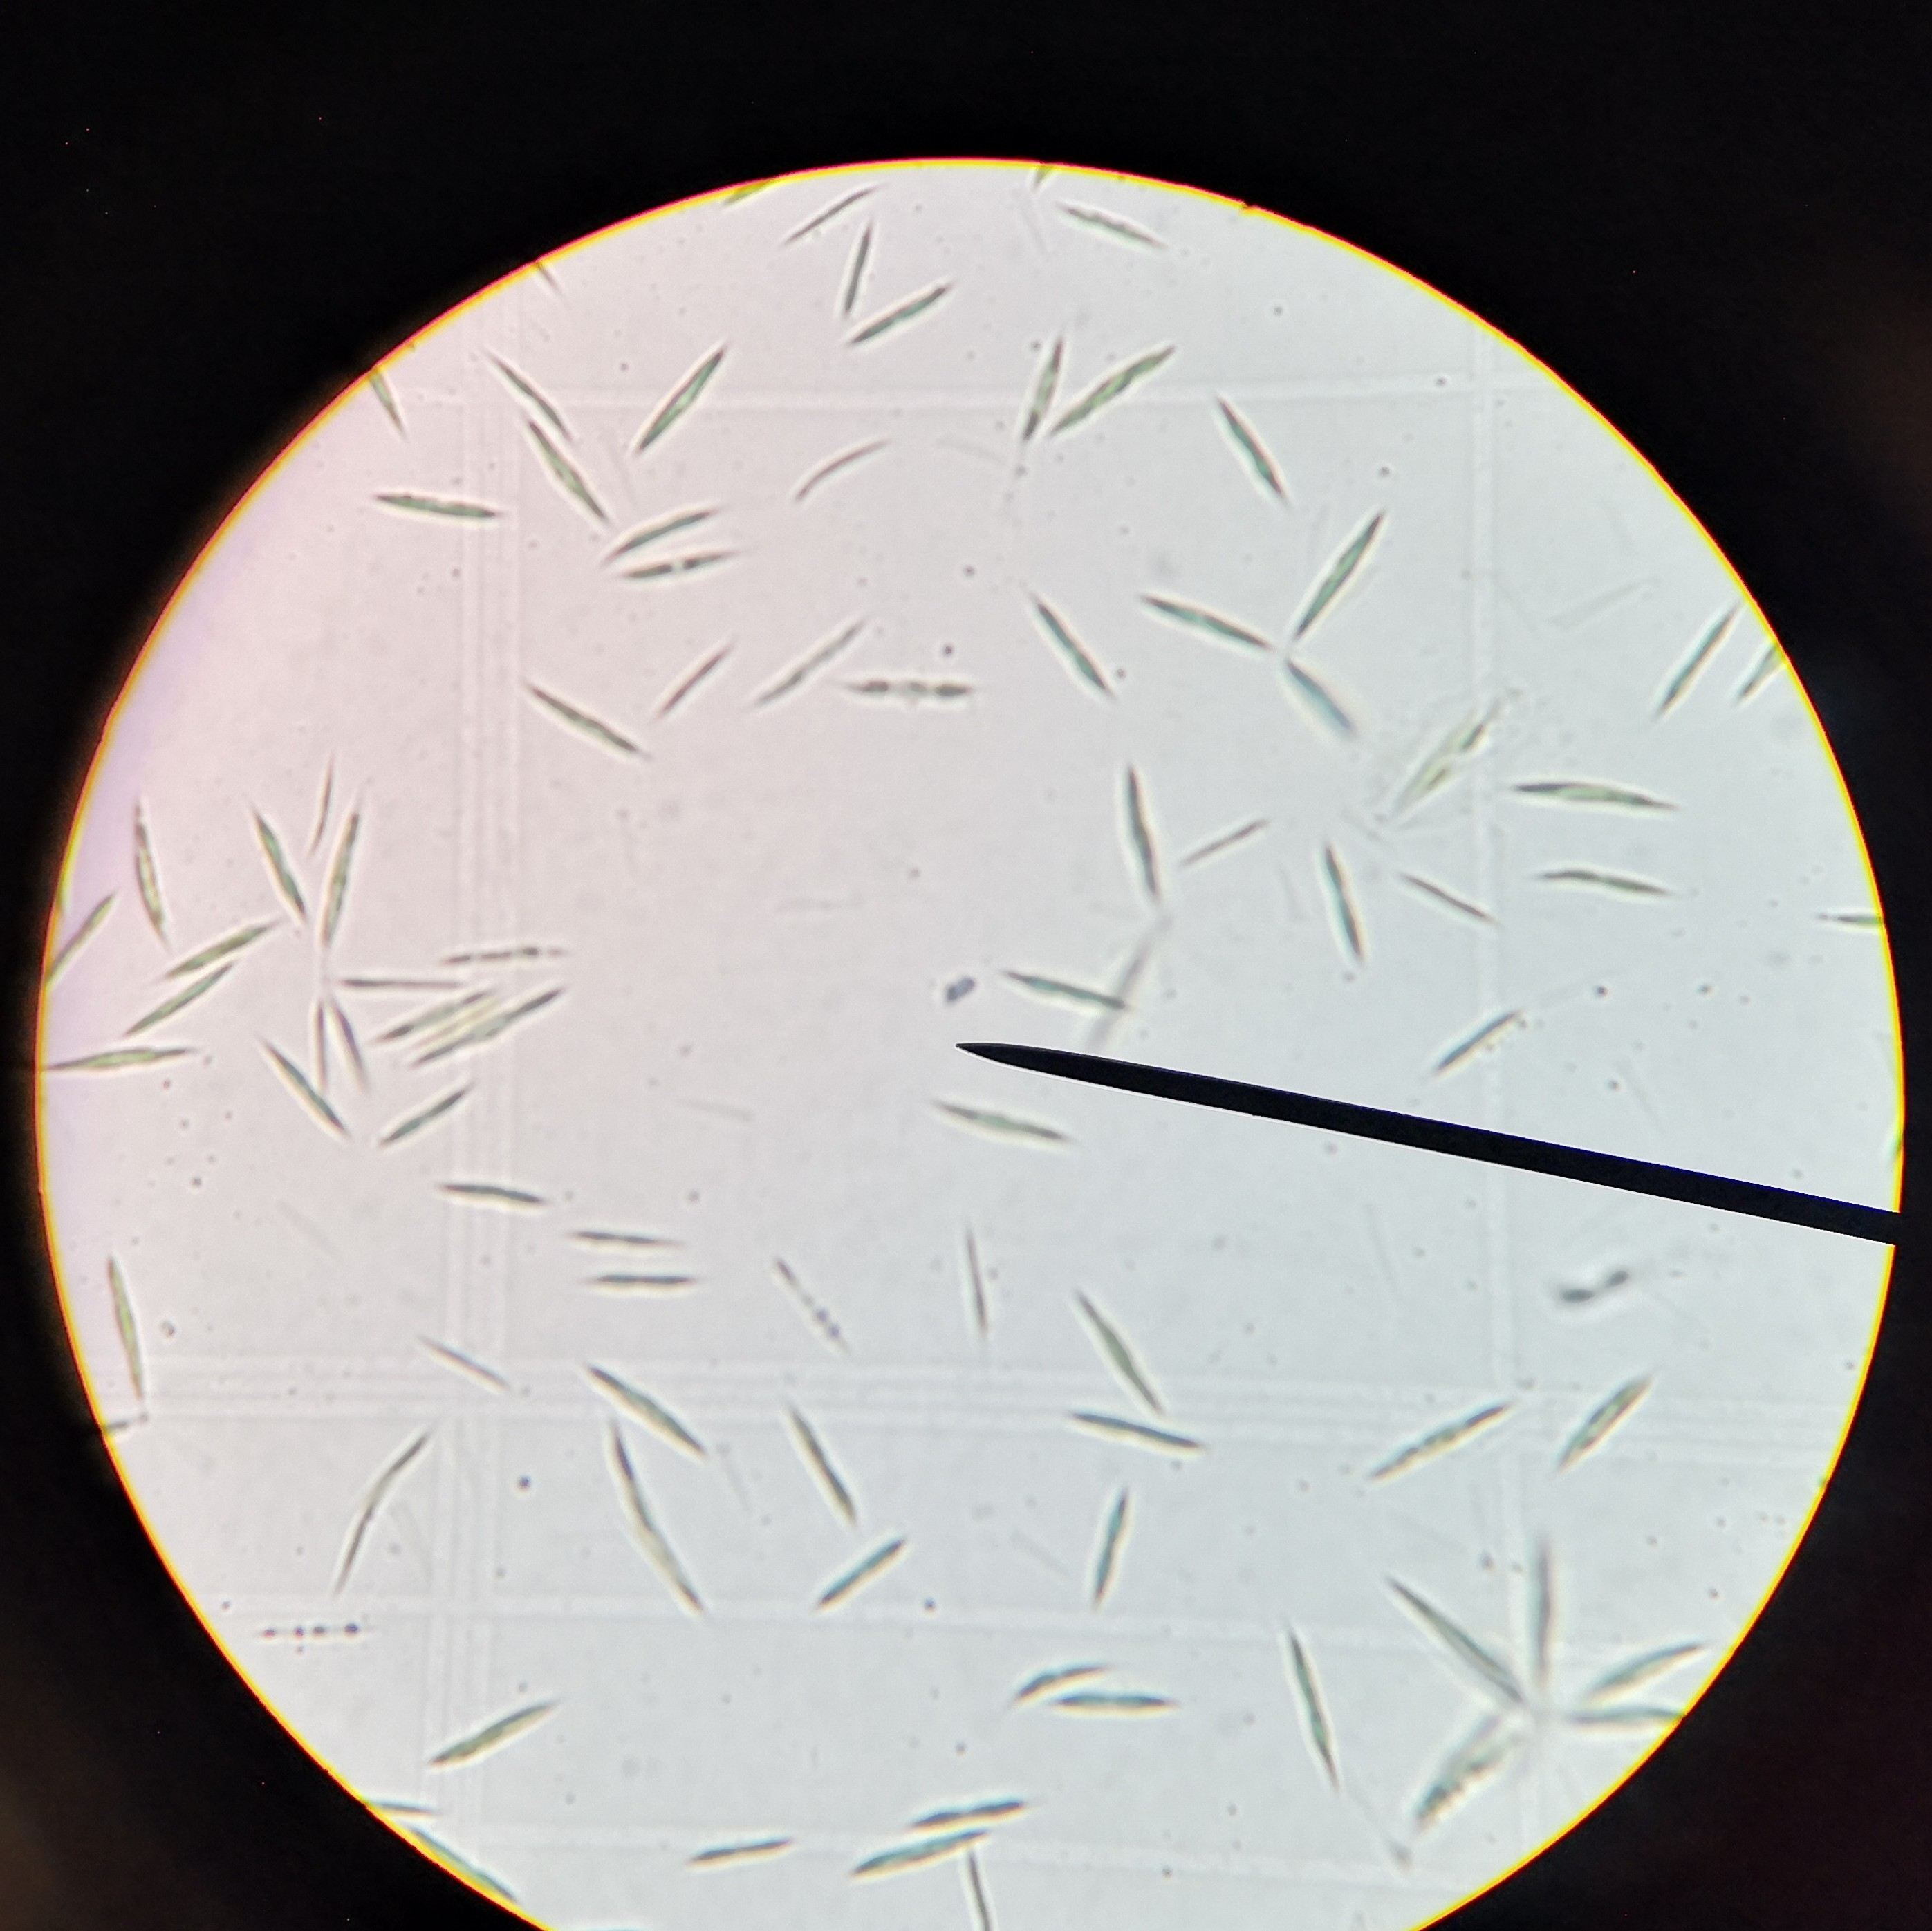Microalgae: (612, 1427, 708, 1606), (1384, 1584, 1530, 1699), (336, 1431, 428, 1597), (1399, 1719, 1513, 1837), (625, 336, 732, 460), (412, 981, 559, 1072), (1299, 504, 1392, 638), (1067, 1296, 1169, 1413), (1550, 1370, 1651, 1478), (1394, 700, 1493, 810), (1277, 1622, 1339, 1795), (1371, 1395, 1499, 1478), (754, 622, 865, 714), (591, 1372, 704, 1462), (518, 688, 649, 764), (120, 953, 237, 1036), (1054, 347, 1166, 431), (787, 1411, 865, 1531), (1212, 396, 1297, 506), (1023, 594, 1116, 693), (520, 421, 612, 522), (88, 1248, 149, 1397), (1656, 612, 1737, 720), (407, 1828, 522, 1903), (257, 1040, 341, 1137), (1111, 755, 1166, 905), (589, 502, 720, 564), (1136, 592, 1270, 651), (1516, 1533, 1569, 1680), (324, 787, 370, 955), (248, 805, 310, 928), (124, 798, 173, 951), (786, 431, 895, 499), (1587, 1639, 1713, 1698), (844, 279, 950, 348), (428, 1696, 552, 1754), (1277, 661, 1362, 746), (773, 1264, 860, 1347), (849, 1825, 984, 1878), (656, 637, 738, 723), (925, 1100, 1072, 1148), (1391, 866, 1499, 930), (777, 173, 876, 240), (1430, 1003, 1525, 1072), (1513, 775, 1675, 813), (810, 1537, 899, 1607), (488, 355, 568, 433), (1311, 842, 1359, 971), (994, 966, 1123, 1011), (1532, 865, 1675, 905), (48, 1043, 188, 1084), (377, 1082, 464, 1148), (425, 1171, 548, 1215), (377, 996, 485, 1045), (835, 210, 883, 322), (947, 1233, 998, 1335), (412, 1339, 518, 1388), (617, 546, 741, 589), (1016, 345, 1063, 453), (354, 485, 506, 518), (1062, 203, 1161, 253), (1185, 812, 1267, 872), (1062, 1415, 1198, 1450), (915, 1786, 1030, 1827), (441, 937, 566, 974), (955, 1846, 1007, 1931), (1090, 1484, 1129, 1595), (679, 1830, 787, 1867), (993, 1659, 1102, 1694), (557, 1227, 681, 1256), (844, 681, 975, 707), (338, 973, 467, 996), (1545, 1706, 1684, 1728), (1051, 1692, 1178, 1715), (1819, 897, 1884, 941), (586, 1271, 701, 1294), (329, 1003, 361, 1079), (1744, 637, 1785, 693), (350, 1804, 448, 1823), (370, 371, 402, 428)
